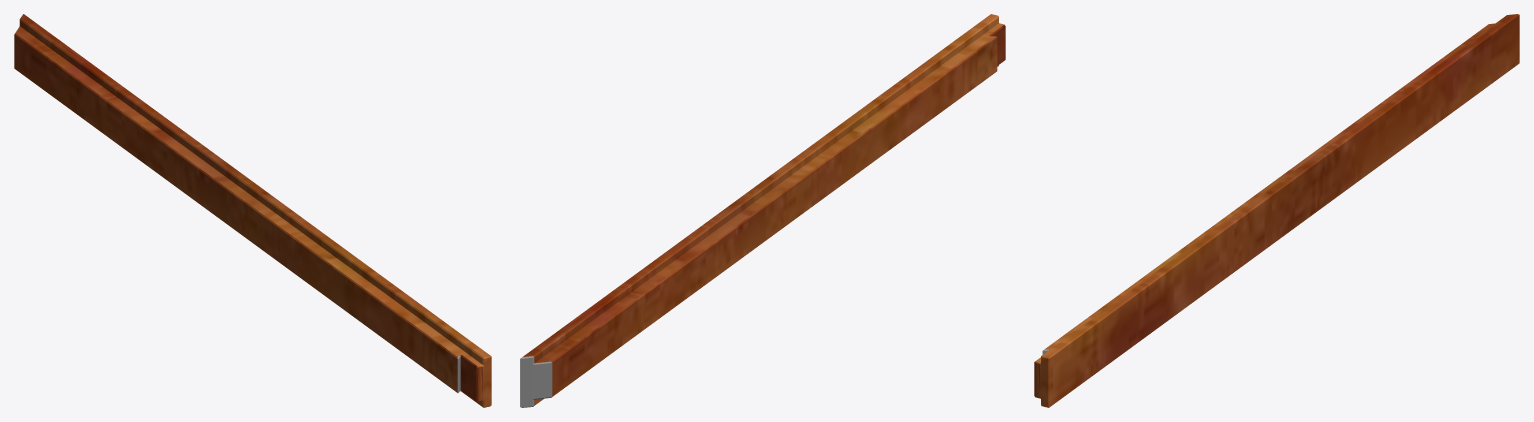
Rendered from baxianzhuo_J_shuyao_04.FBX.
3 renders of one model, left to right at view 1: azimuth 30°, elevation 25°; view 2: azimuth 150°, elevation 25°; view 3: azimuth 330°, elevation 25°, orthographic.
Visible parts, largest first — view 1: baxianzhuo_J_shuyao_04; view 2: baxianzhuo_J_shuyao_04; view 3: baxianzhuo_J_shuyao_04.
Boxes of the visible parts, left/top/right/bottom form: baxianzhuo_J_shuyao_04: left=14, top=14, right=491, bottom=407; baxianzhuo_J_shuyao_04: left=520, top=14, right=1005, bottom=407; baxianzhuo_J_shuyao_04: left=1034, top=14, right=1519, bottom=407.
Size of the model in its own units: 1.2 by 2.8 by 46.96.
Materials: 2 (1 with a texture image).
